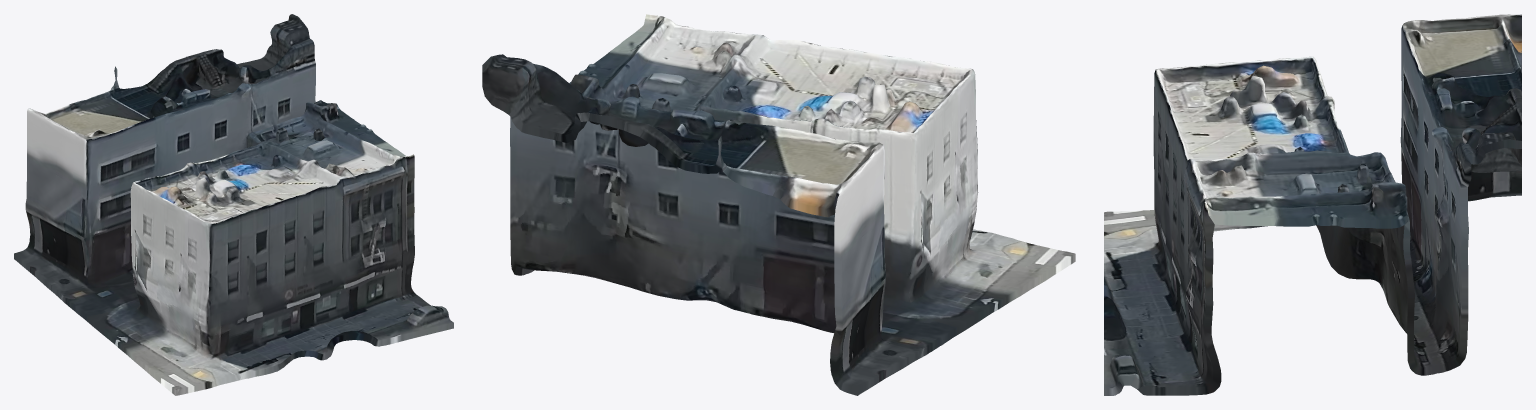
The model's file is z20-167759-405237-h0-yup-uvflip-v3-world.glb.
3 views of the same model, side by side, from view 1: azimuth 30°, elevation 25°; view 2: azimuth 150°, elevation 25°; view 3: azimuth 270°, elevation 25° (orthographic). The views are drawn at different scales.
Bounding box in the file's own units: 30.16 × 20.52 × 30.32.
Materials: 1 (1 with a texture image).
